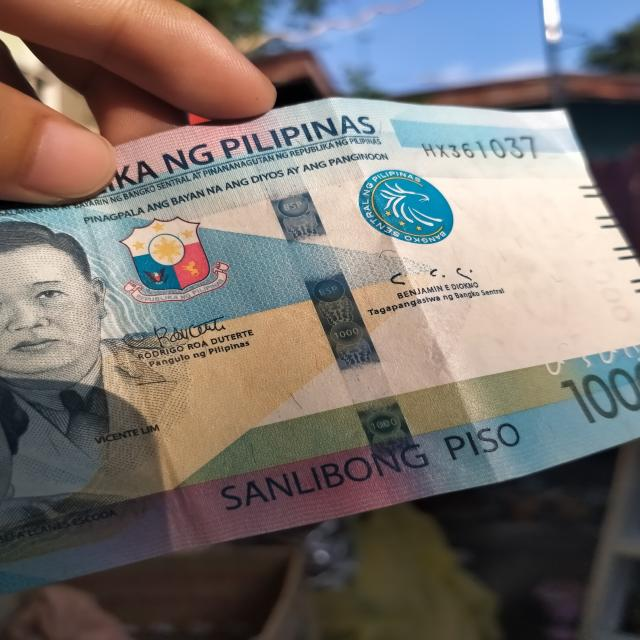security_thread: (229, 110, 445, 507)
see_through_mark: (533, 331, 640, 374)
serial_number: (416, 133, 544, 161)
